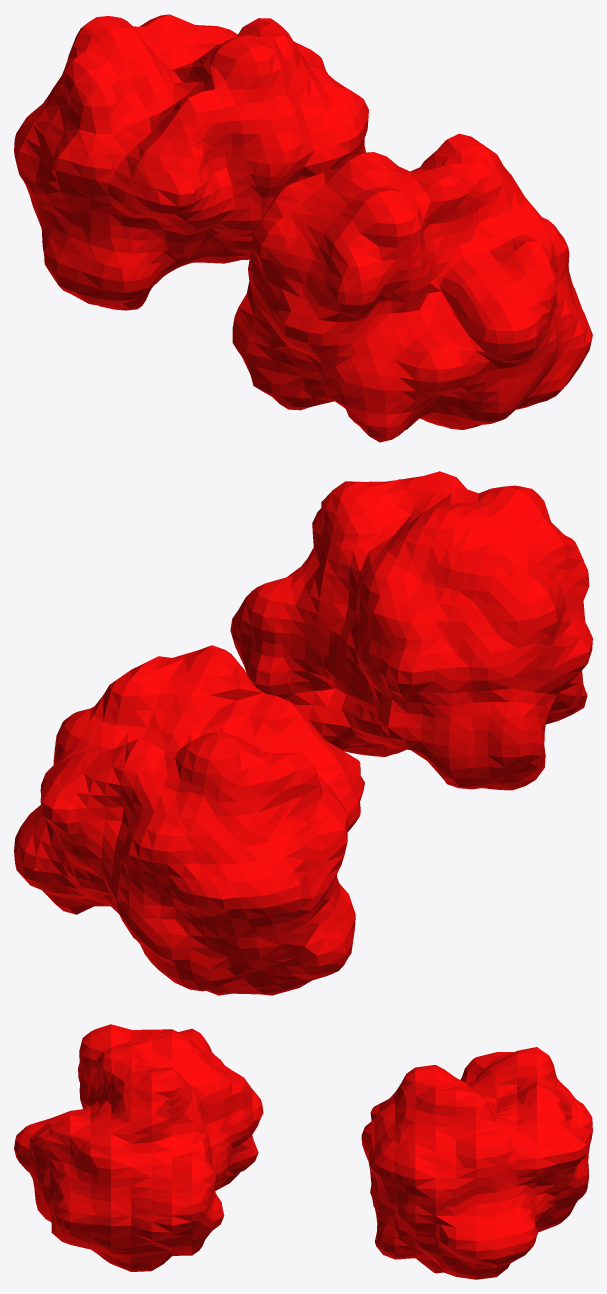
The model's file is galT_coarse.dae.
3 views of the same model, one above another, from view 1: azimuth 30°, elevation 25°; view 2: azimuth 150°, elevation 25°; view 3: azimuth 270°, elevation 25° (orthographic). The views are drawn at different scales.
Visible parts, largest first — view 1: galT; view 2: galT; view 3: galT.
Part boxes in pixels (box(x1,y1,x2,y2)): galT: box(14, 14, 592, 442); galT: box(14, 471, 592, 995); galT: box(14, 1024, 592, 1279).
Size of the model in its own units: 75.72 by 69.17 by 165.
